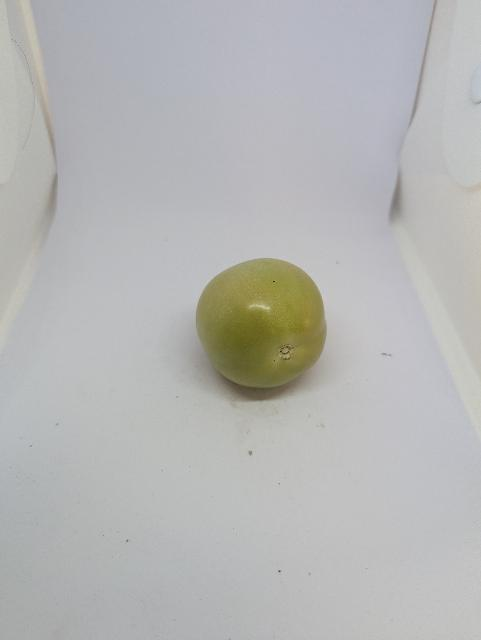green: (194, 256, 332, 390)
